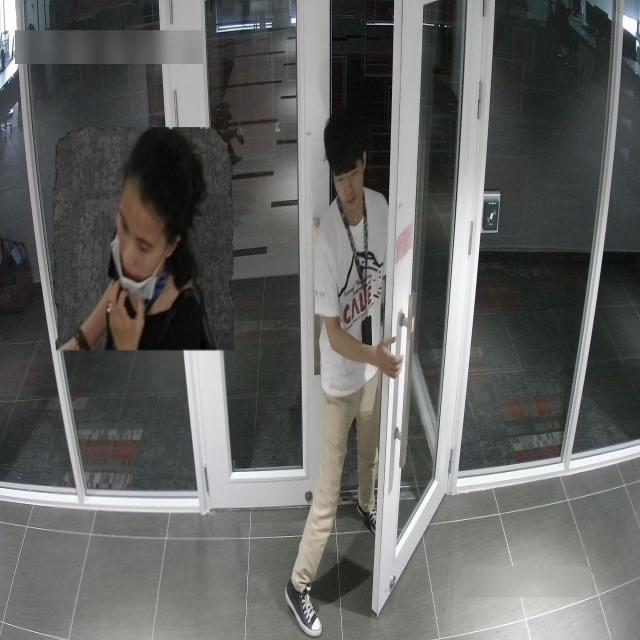hairnet: (108, 204, 157, 298)
